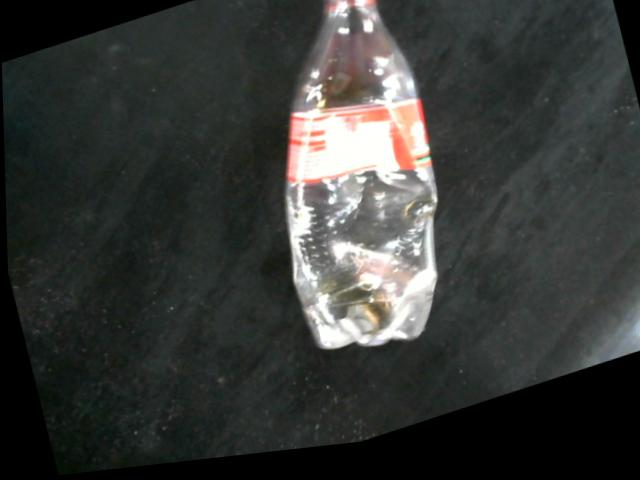bottle: (279, 0, 438, 359)
